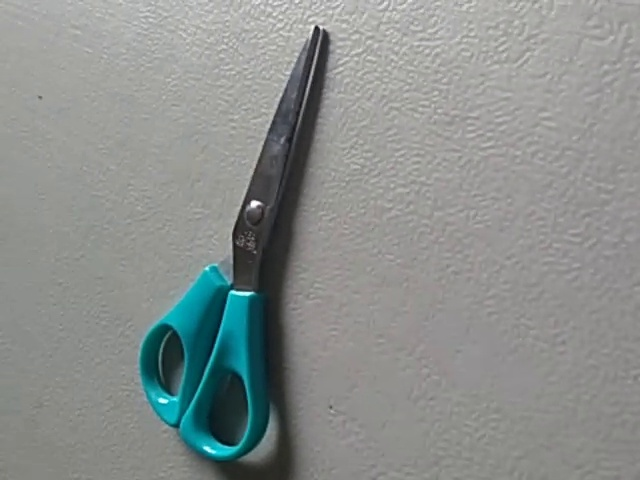Sizer: (119, 20, 339, 469)
